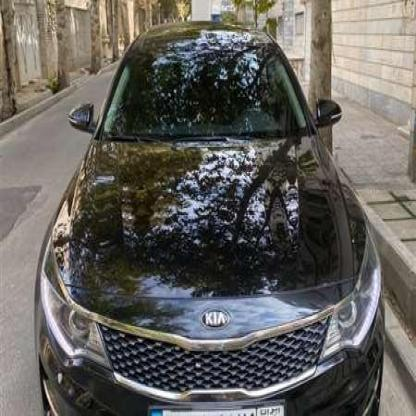Car: (41, 27, 385, 416)
